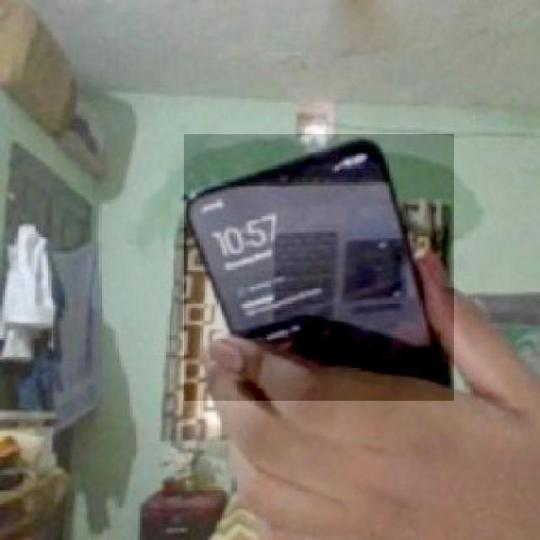phone: (185, 134, 457, 400)
